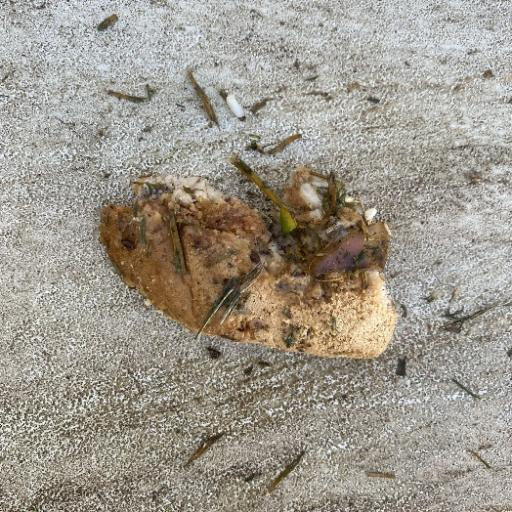Waste: (96, 158, 398, 360)
